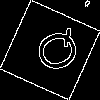Q: (25, 25, 84, 79)
